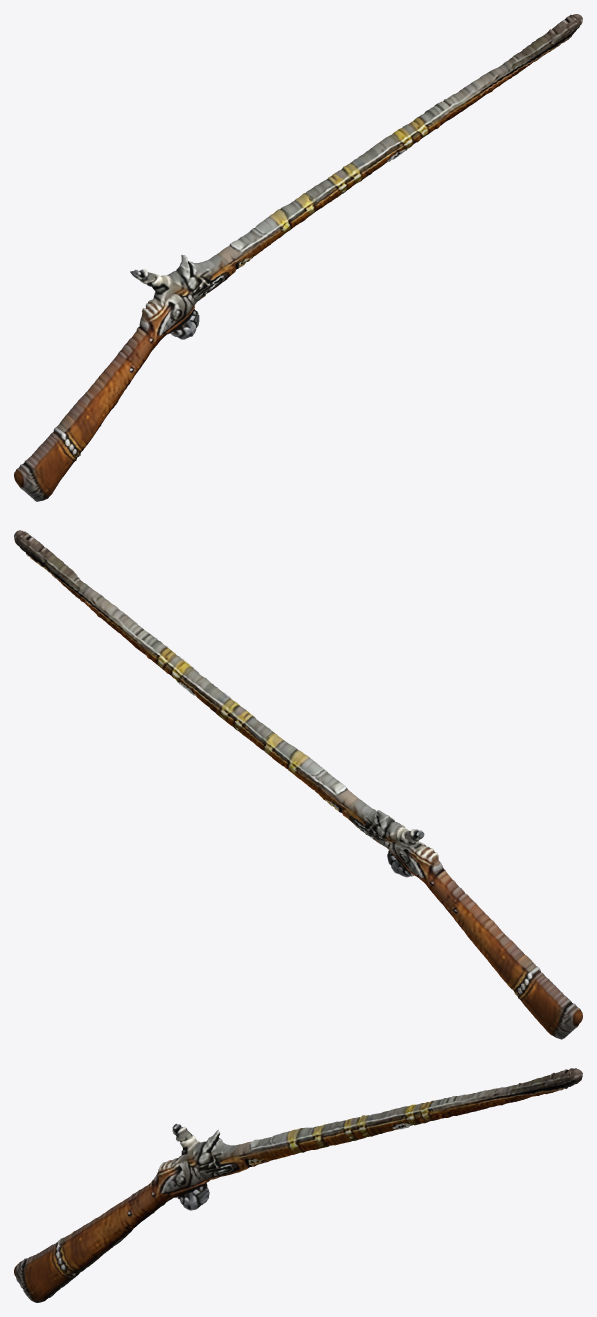
File: kfl-2212.glb
3 views of the same model, one above another, from view 1: azimuth 30°, elevation 25°; view 2: azimuth 150°, elevation 25°; view 3: azimuth 330°, elevation 25° (orthographic). The views are drawn at different scales.
Parts seen in each view (by area): view 1: kfl-2212; view 2: kfl-2212; view 3: kfl-2212.
Part boxes in pixels (x1,y1,x2,y2): kfl-2212: [14, 14, 582, 501]; kfl-2212: [14, 530, 582, 1039]; kfl-2212: [14, 1068, 582, 1302].
Size of the model in its own units: 0.9872 by 0.6091 by 0.0999.
1 material, 1 textured.
